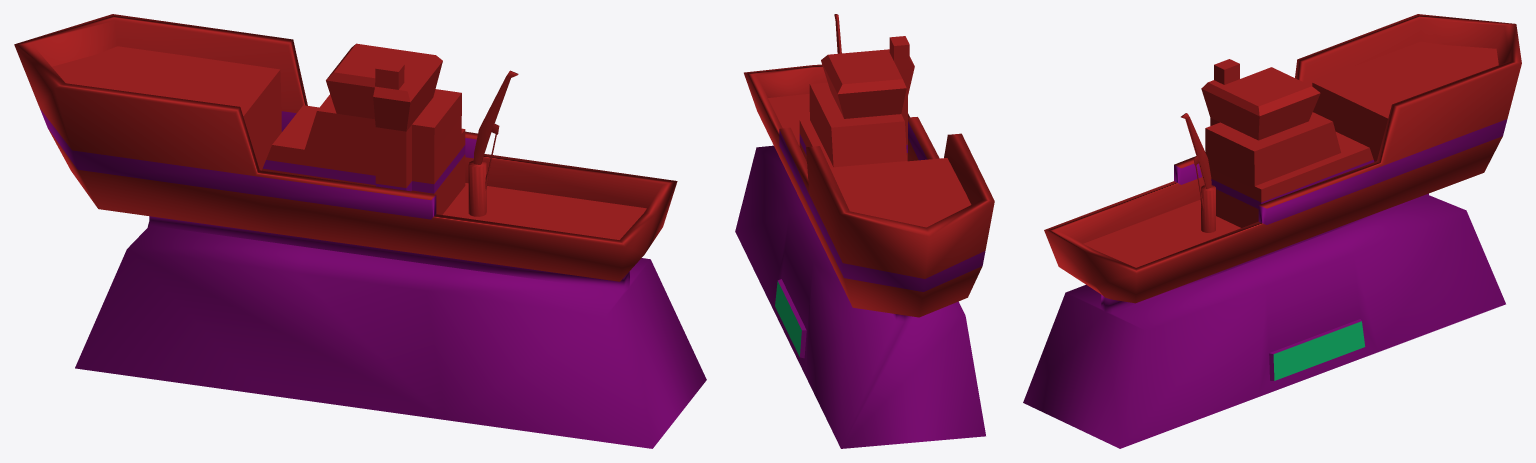
File: ship_minature.fbx
3 renders of one model, left to right at view 1: azimuth 30°, elevation 25°; view 2: azimuth 150°, elevation 25°; view 3: azimuth 270°, elevation 25°, orthographic. The views are drawn at different scales.
Visible parts, largest first — view 1: Cube.006; view 2: Cube.006; view 3: Cube.006.
Boxes of the visible parts, bbox=[...] form: Cube.006: bbox=[14, 14, 706, 448]; Cube.006: bbox=[735, 14, 994, 448]; Cube.006: bbox=[1023, 14, 1521, 448].
Bounding box in the file's own units: 13.75 × 9.09 × 14.68.
